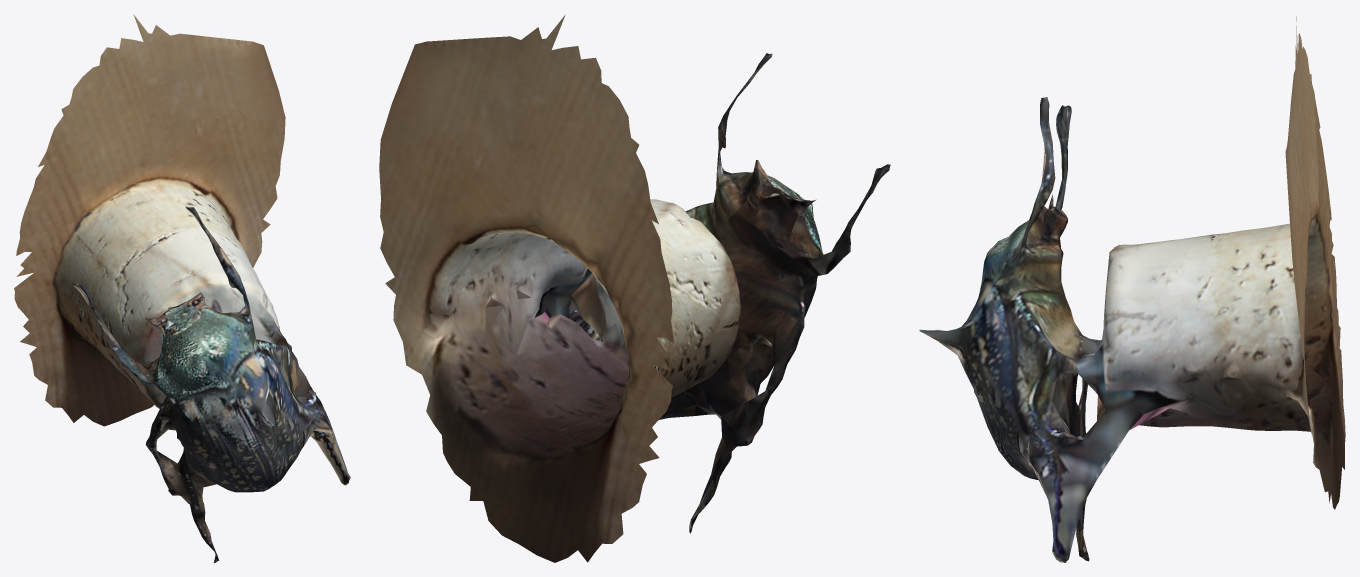
File: tenaga3.obj
The picture shows the model from 3 angles, left to right: view 1: azimuth 30°, elevation 25°; view 2: azimuth 150°, elevation 25°; view 3: azimuth 270°, elevation 25°; orthographic projection. The views are drawn at different scales.
Visible parts, largest first — view 1: Group_Global; view 2: Group_Global; view 3: Group_Global.
Part boxes in pixels (<box>): Group_Global: <box>14,14,350,562</box>; Group_Global: <box>379,14,890,562</box>; Group_Global: <box>919,16,1345,562</box>.
Bounding box in the file's own units: 1.59 × 2.34 × 1.64.
4 materials, 4 textured.
